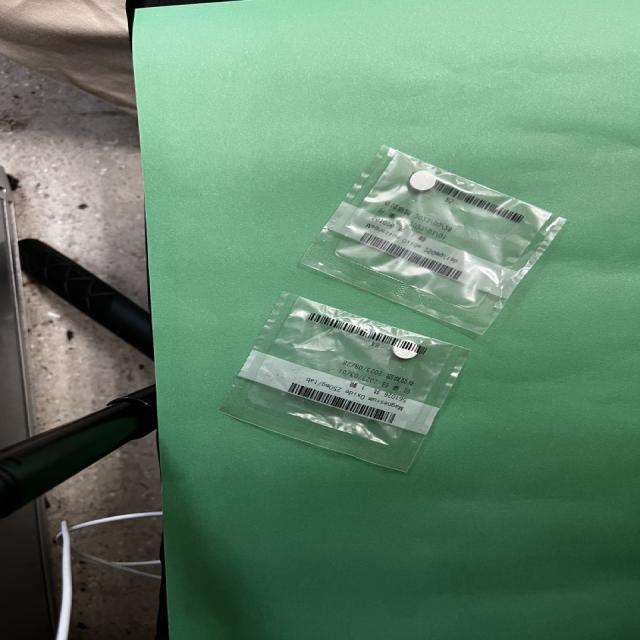Other Objects: (300, 146, 565, 335), (221, 292, 469, 471)
